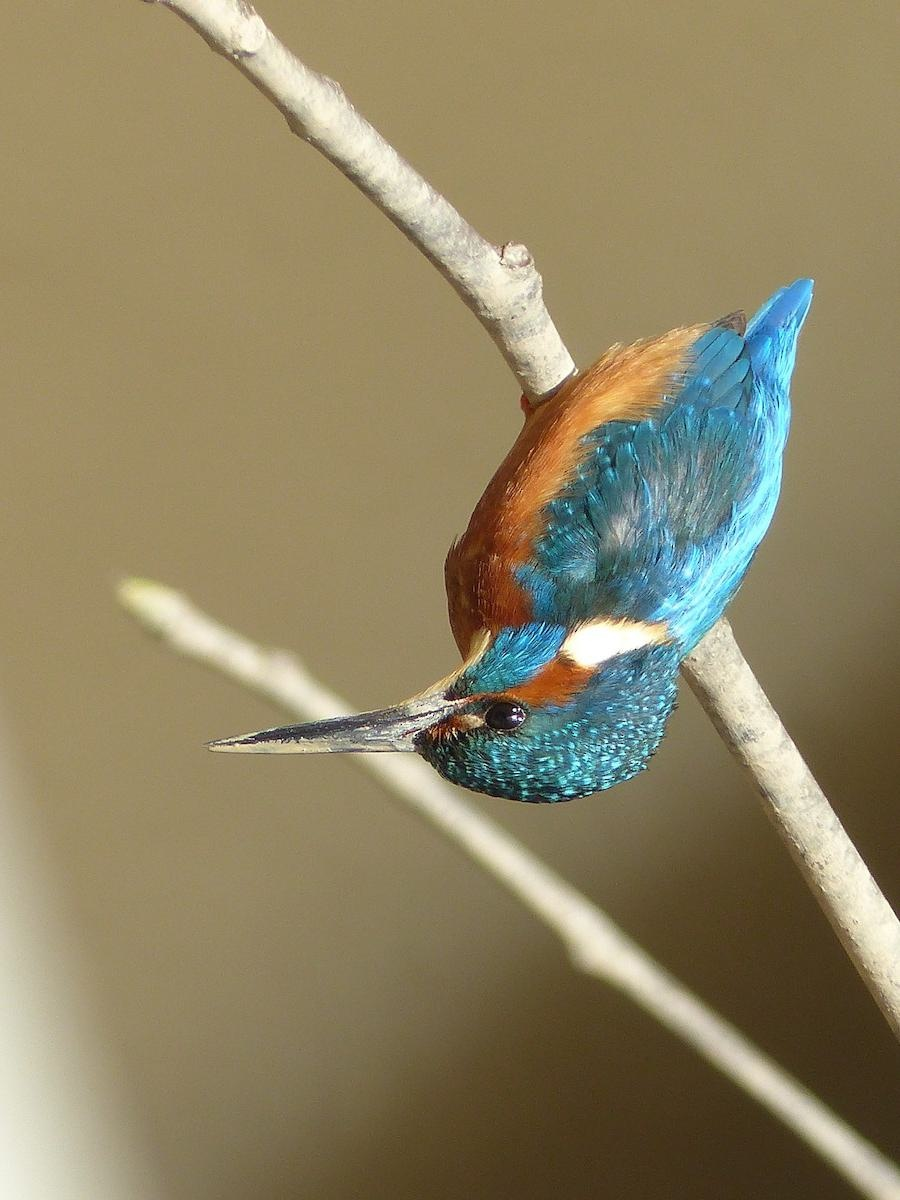kingfisher: (184, 235, 842, 825)
